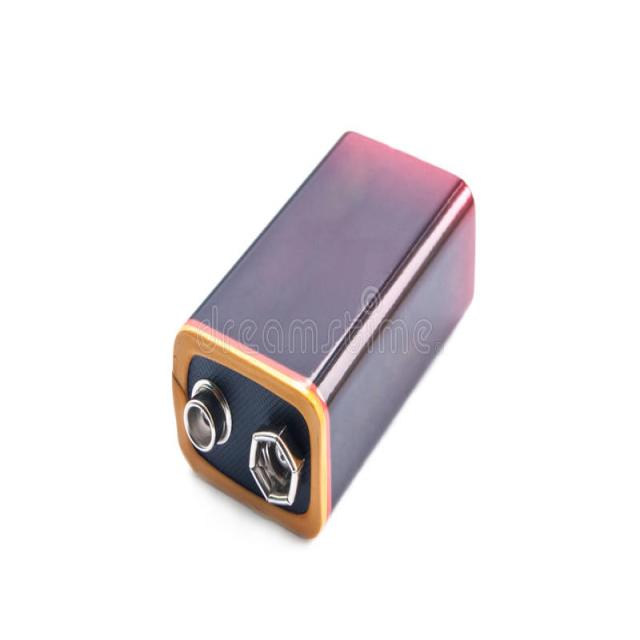Hazard: (152, 135, 477, 528)
